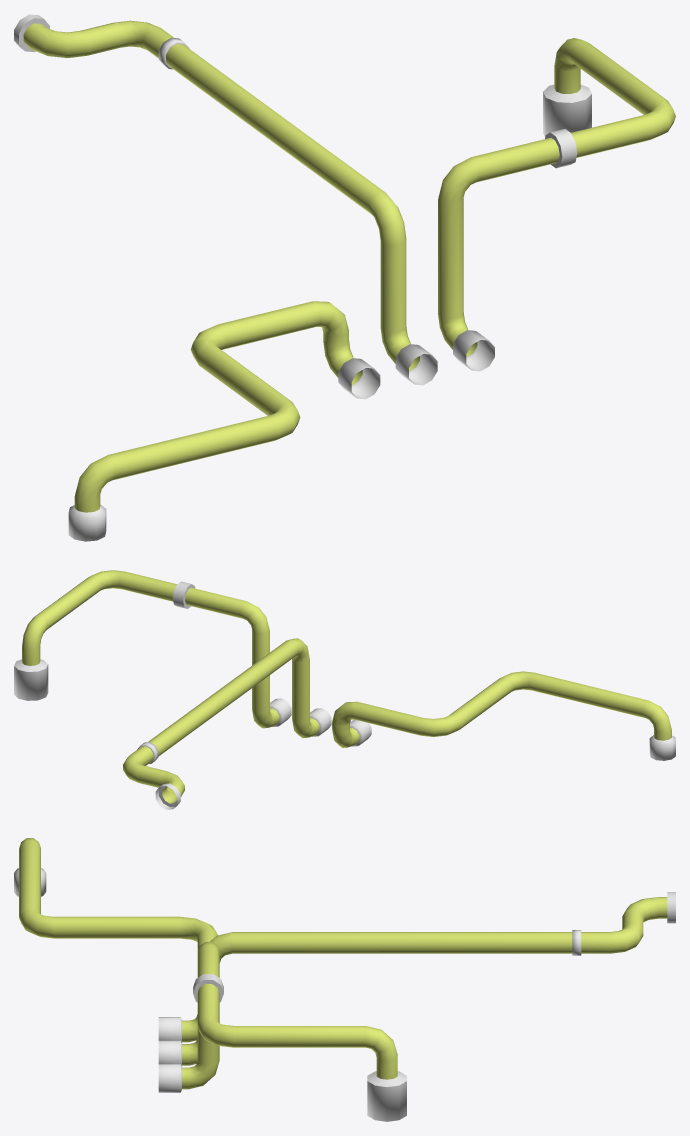
Rendered from Submarine_pipetest.glb.
3 views of the same model, one above another, from view 1: azimuth 30°, elevation 25°; view 2: azimuth 150°, elevation 25°; view 3: azimuth 270°, elevation 25° (orthographic). The views are drawn at different scales.
Visible parts, largest first — view 1: Pipes.008; view 2: Pipes.008; view 3: Pipes.008.
Part boxes in pixels (x1,y1,x2,y2): Pipes.008: (14, 14, 675, 541); Pipes.008: (14, 570, 675, 809); Pipes.008: (14, 838, 675, 1121).
Bounding box in the file's own units: 8.77 × 2.18 × 8.21.
